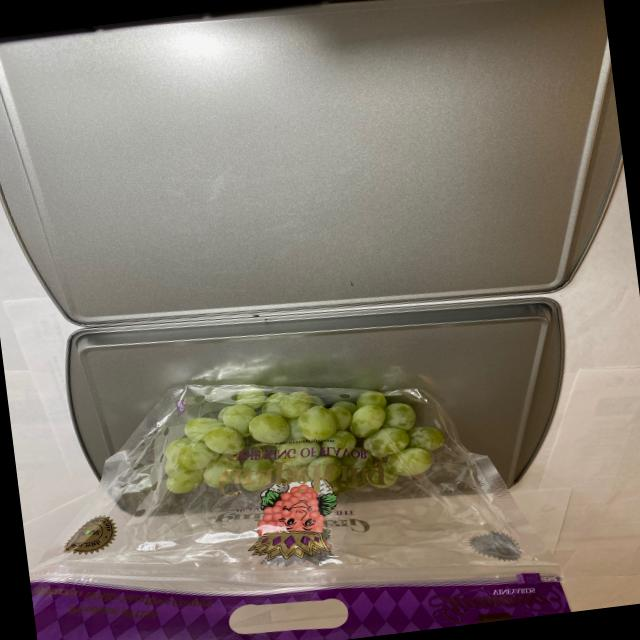grapes: (148, 353, 470, 522)
